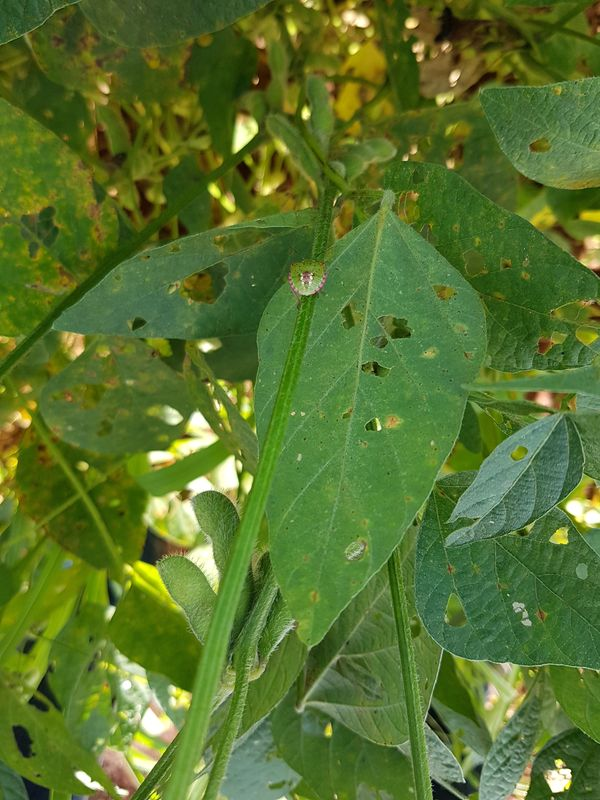Nezara_viridula_ninfa: (274, 250, 336, 314)
